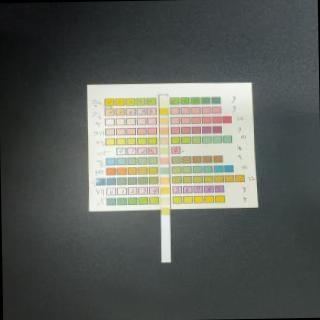mark: (160, 197, 170, 205), (160, 157, 169, 165), (160, 108, 169, 116), (160, 178, 170, 185), (160, 187, 169, 194), (162, 208, 170, 215), (160, 128, 168, 135), (160, 98, 168, 105), (160, 168, 169, 174), (160, 138, 169, 144), (160, 119, 169, 125), (160, 148, 168, 154)
